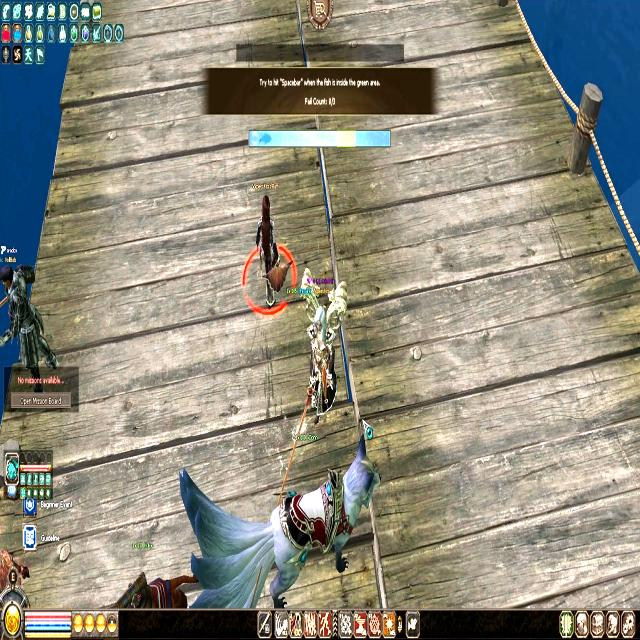fishes: (258, 131, 271, 145)
